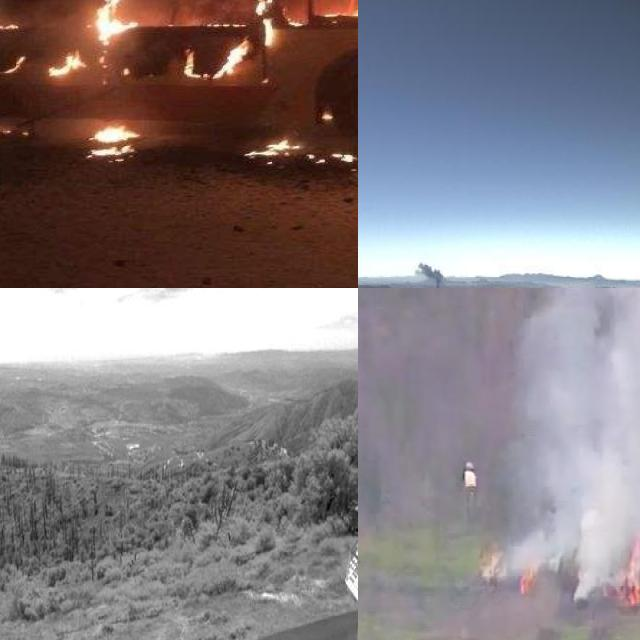fire: (247, 131, 358, 175), (178, 34, 252, 83), (614, 531, 640, 604), (88, 121, 135, 161), (95, 0, 134, 44), (43, 50, 94, 83), (253, 0, 279, 48), (514, 559, 543, 593)
smoke: (494, 288, 640, 601), (412, 257, 446, 288)
